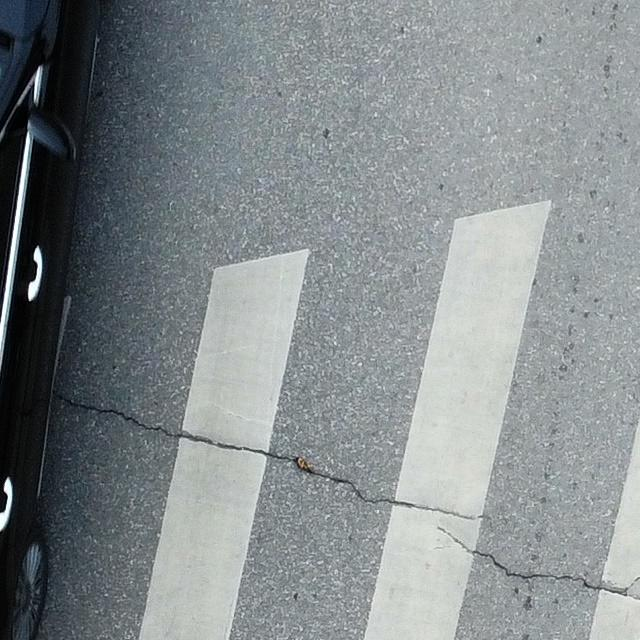TransverseCrack: (55, 393, 491, 521), (431, 525, 640, 600)
